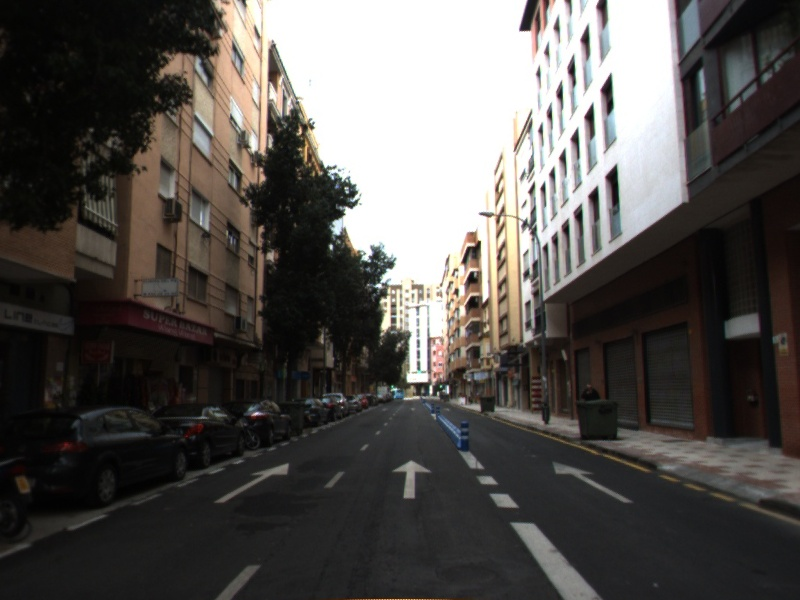STRAIGHT: (551, 460, 636, 505), (213, 461, 290, 504), (390, 458, 433, 500)
